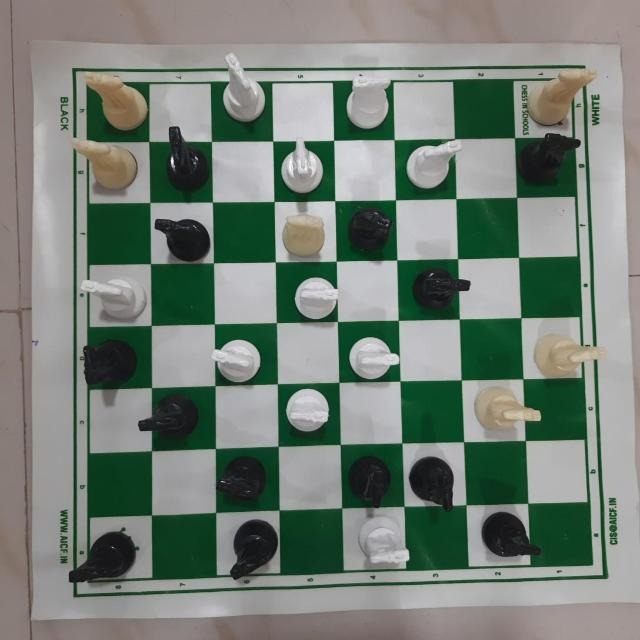black-knight: (62, 527, 137, 584), (151, 207, 213, 265), (80, 331, 138, 392), (226, 519, 281, 579), (131, 393, 201, 439), (212, 449, 270, 503), (476, 517, 541, 565), (158, 127, 208, 189), (523, 134, 581, 186), (410, 263, 472, 311), (409, 454, 457, 515), (347, 451, 394, 511), (345, 204, 393, 255)
white-knight: (524, 63, 596, 128), (83, 67, 151, 131), (535, 328, 603, 384), (70, 138, 142, 190), (469, 384, 546, 432), (78, 268, 146, 322), (215, 53, 266, 124), (360, 516, 420, 575), (342, 69, 394, 134), (271, 138, 331, 194), (208, 332, 268, 388), (403, 142, 462, 190), (283, 380, 334, 434), (348, 331, 400, 381), (291, 274, 339, 321), (281, 211, 327, 259)
